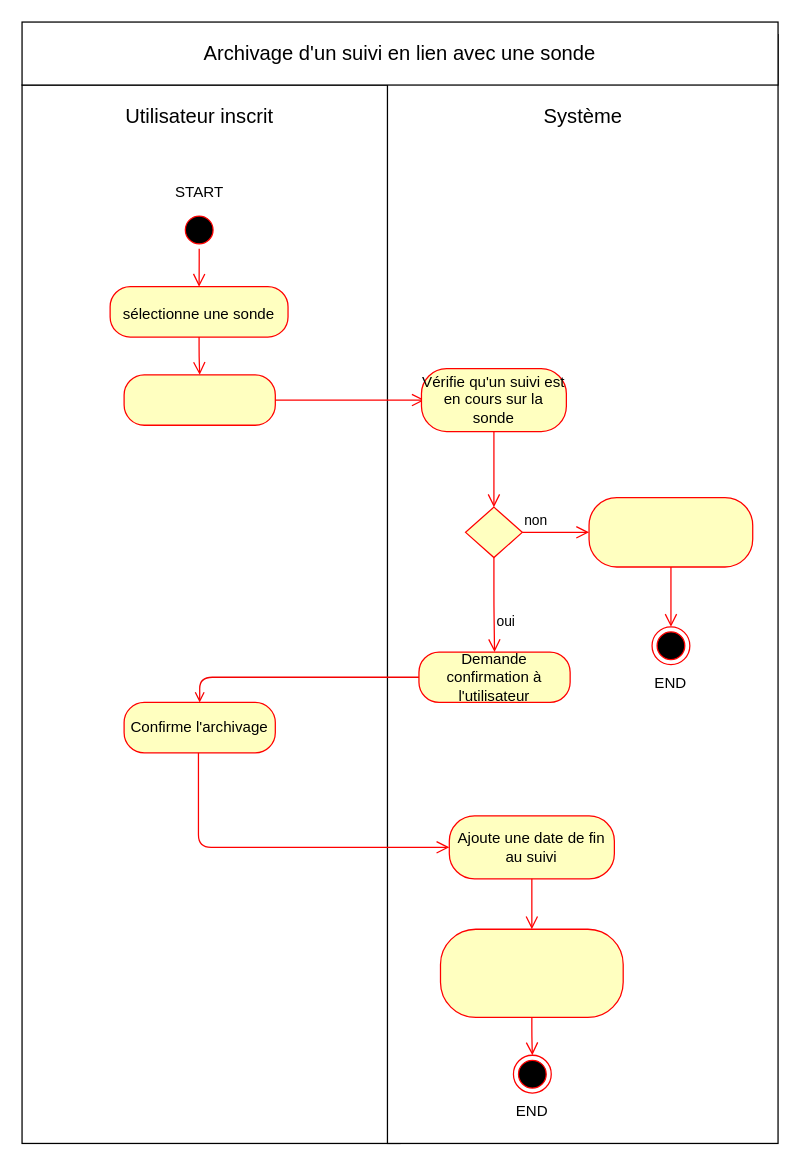
The diagram is 800 pixels wide and 1166 high, and some of its shapes have lost their labels. Here are the shapes that lost their labels. From the top down, the centre of each, then its label:
At [199,399]: "demande l'archivage du suivi en cours".
At [670,531]: "Notifie l'utilisateur qu'il n'y a aucun suivi en cours".
At [531,972]: "Confirme l'archivage du suivi".
